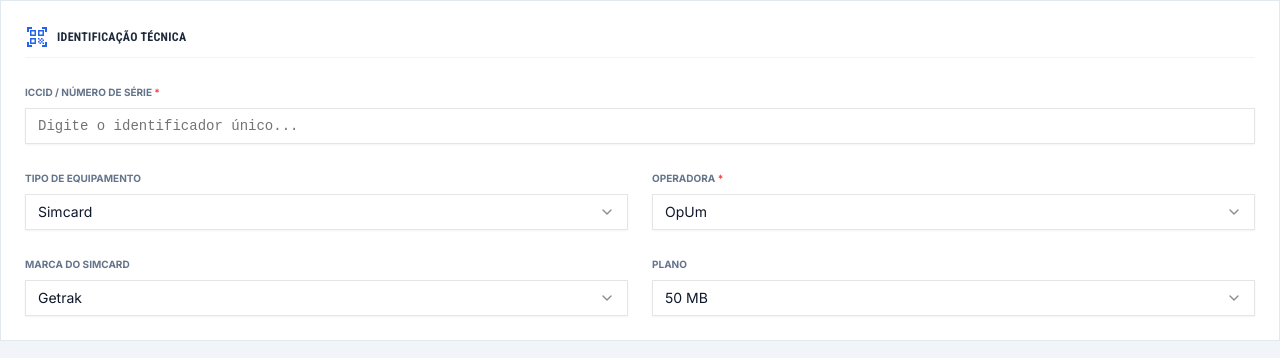
Scenario: IdentificacaoTecnicaSection › simcard: trocar operadora zera marca e plano do simcard
Step 1. Click the dropdown labelled "OpUm" → coordinates (686, 212), box 652,194 -> 1255,230
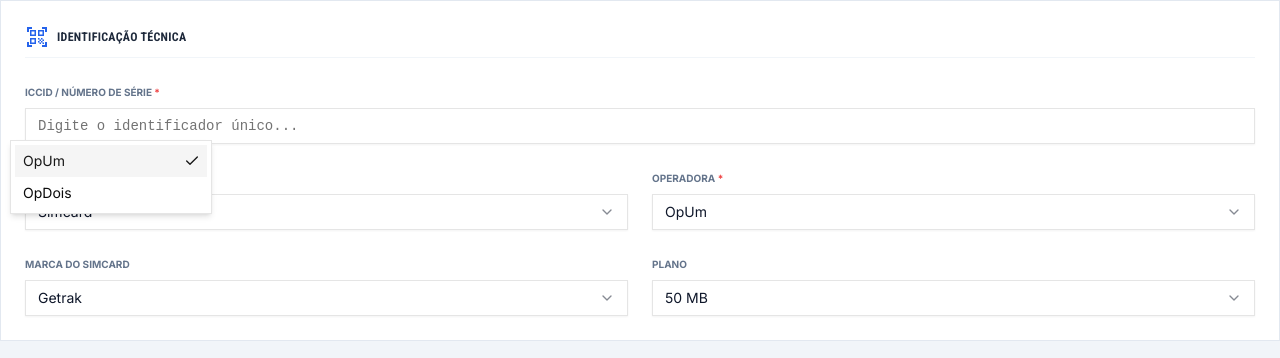
Step 2. Click the option "OpDois" → coordinates (47, 192), box 23,184 -> 72,201
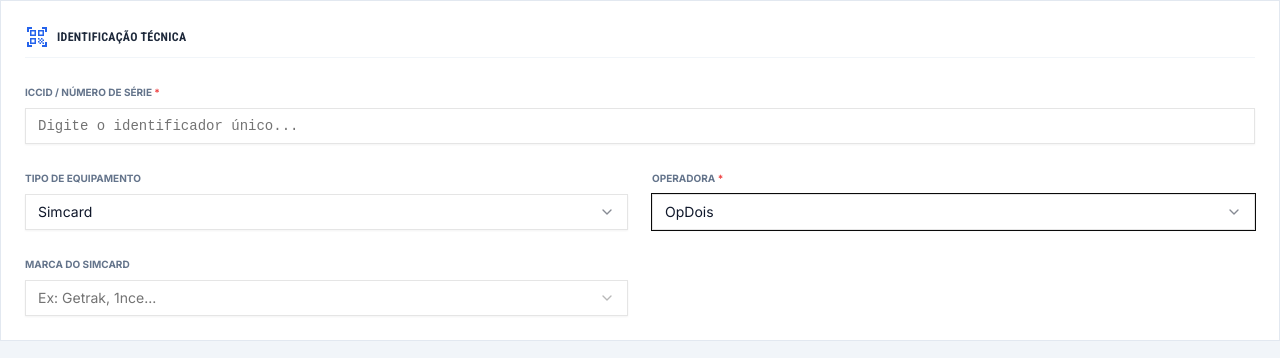
Expected: the text "OpDois" is shown, 665,202 -> 714,222
